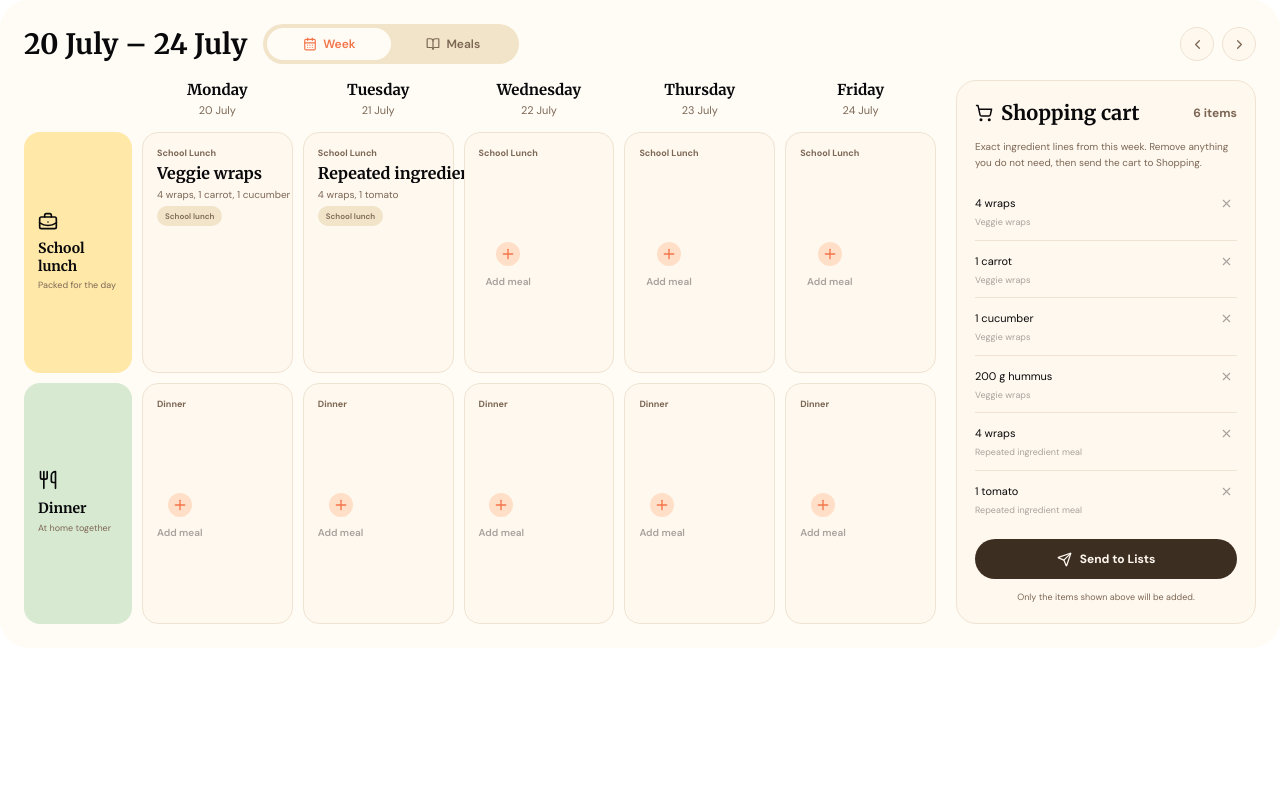
Test case: WeekRoute › sends the shopping cart exactly as shown, including repeated rows
What coordinates should you click on to do the following:
click the button named "Remove 1 cucumber"
I would click on:
 (1226, 318)
Its box is x1=1216 y1=308 x2=1237 y2=329.
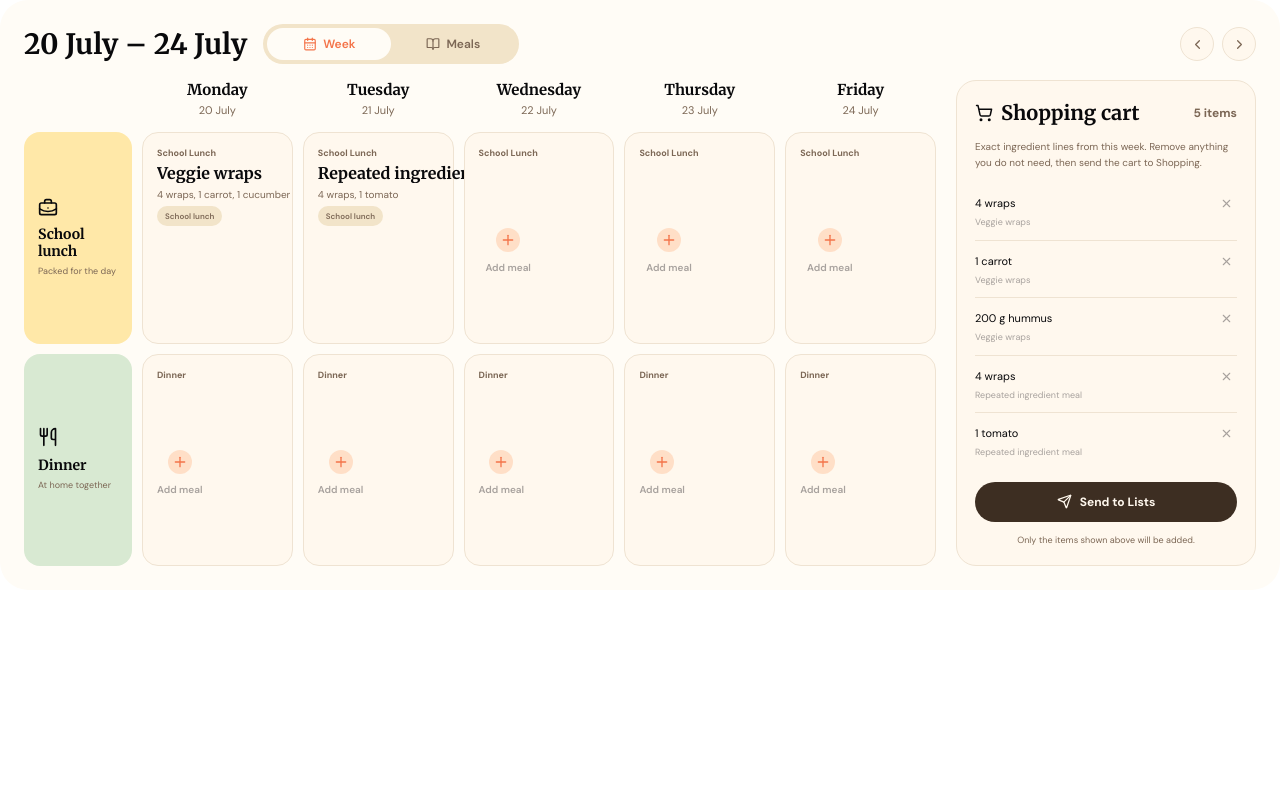
What coordinates should you click on to do the following:
click the button "Send to Lists"
I would click on:
 (1106, 502)
Its box is x1=975 y1=482 x2=1237 y2=522.
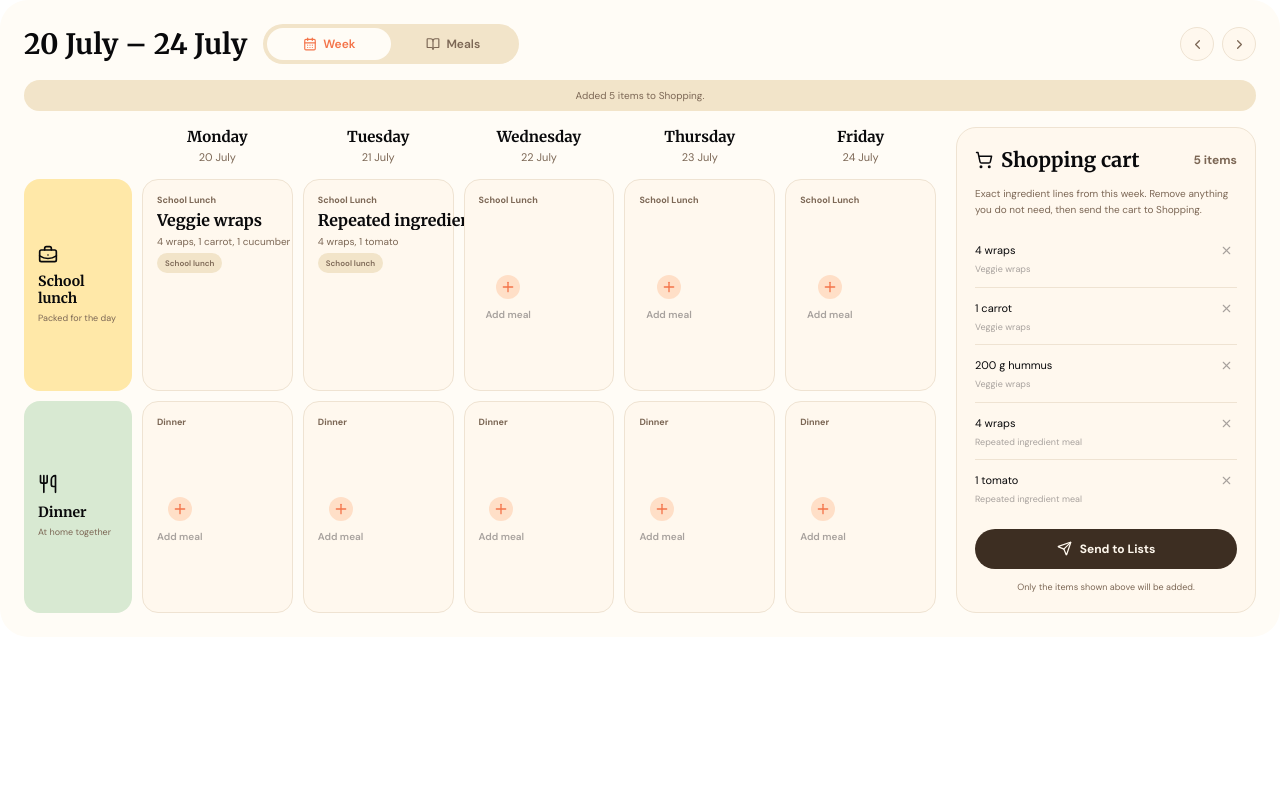
Expected: the message reads "Added 5 items to Shopping.", x1=576 y1=89 x2=704 y2=102
